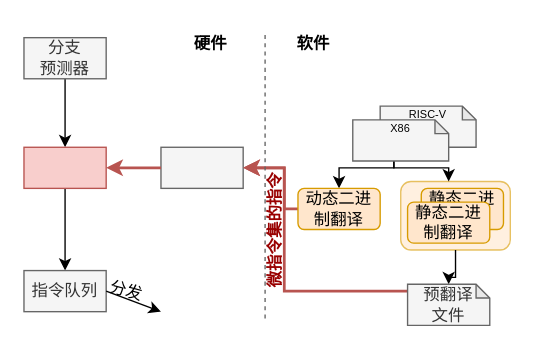
Some shapes in this 534 by 349 pixel diagram are drawn without their labels. The shapes that lost their labels are listed below. From the top down, each one's box as (x1, y1, x2, y2) in pixels, then its label:
(351, 119, 449, 161): 客户二进制
(23, 146, 106, 188): 翻译缓存
(160, 146, 243, 188): 内存层次
